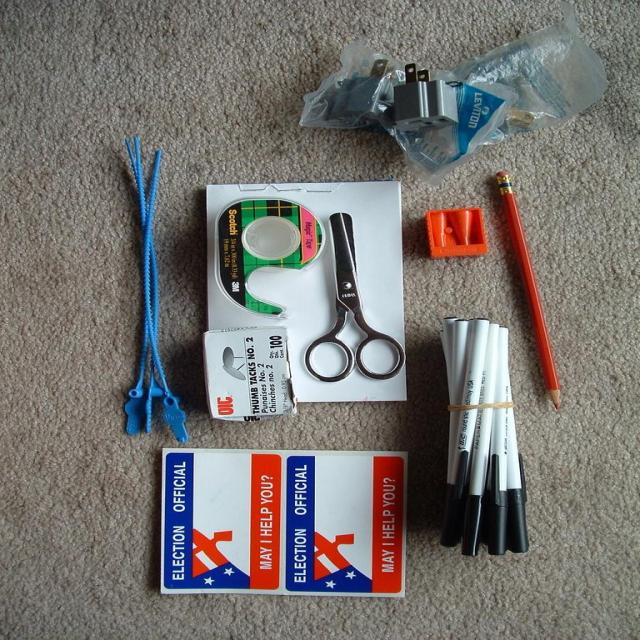scissor: (301, 212, 405, 380)
